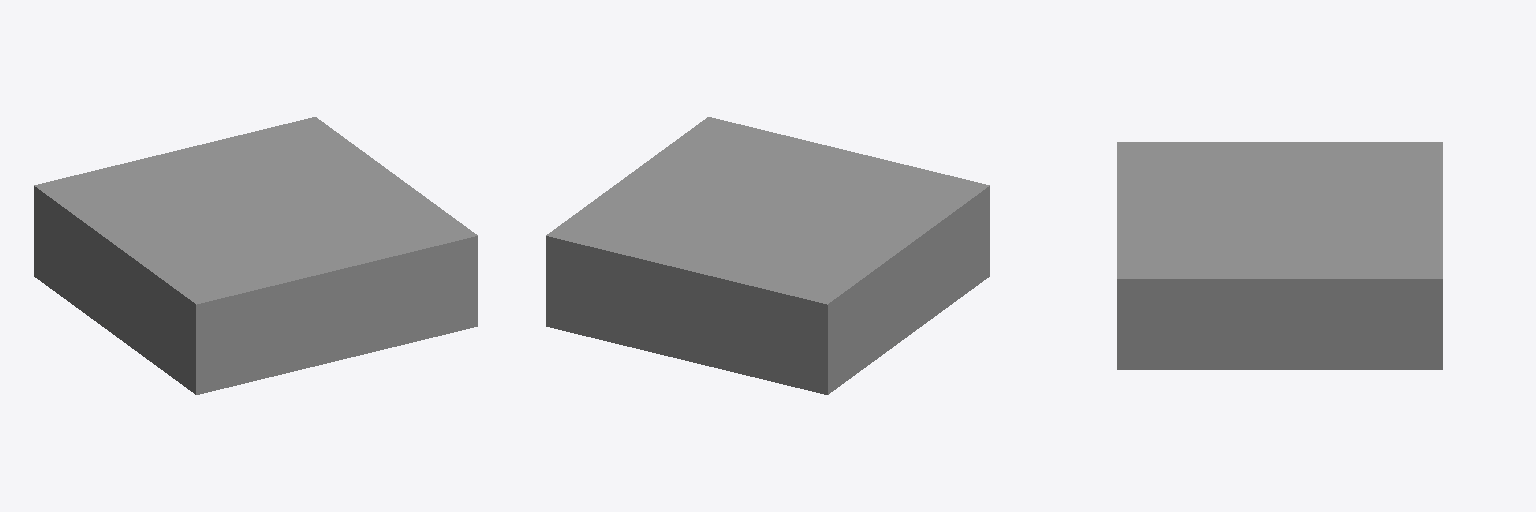
Rendered from template_cutout.obj.
3 views of the same model, side by side, from view 1: azimuth 30°, elevation 25°; view 2: azimuth 150°, elevation 25°; view 3: azimuth 270°, elevation 25° (orthographic).
Visible parts, largest first — view 1: Cube; view 2: Cube; view 3: Cube.
Part boxes in pixels (x1,y1,x2,y2): Cube: (34, 117, 477, 394); Cube: (546, 117, 989, 394); Cube: (1117, 142, 1442, 369).
Bounding box in the file's own units: 13 × 4 × 13.